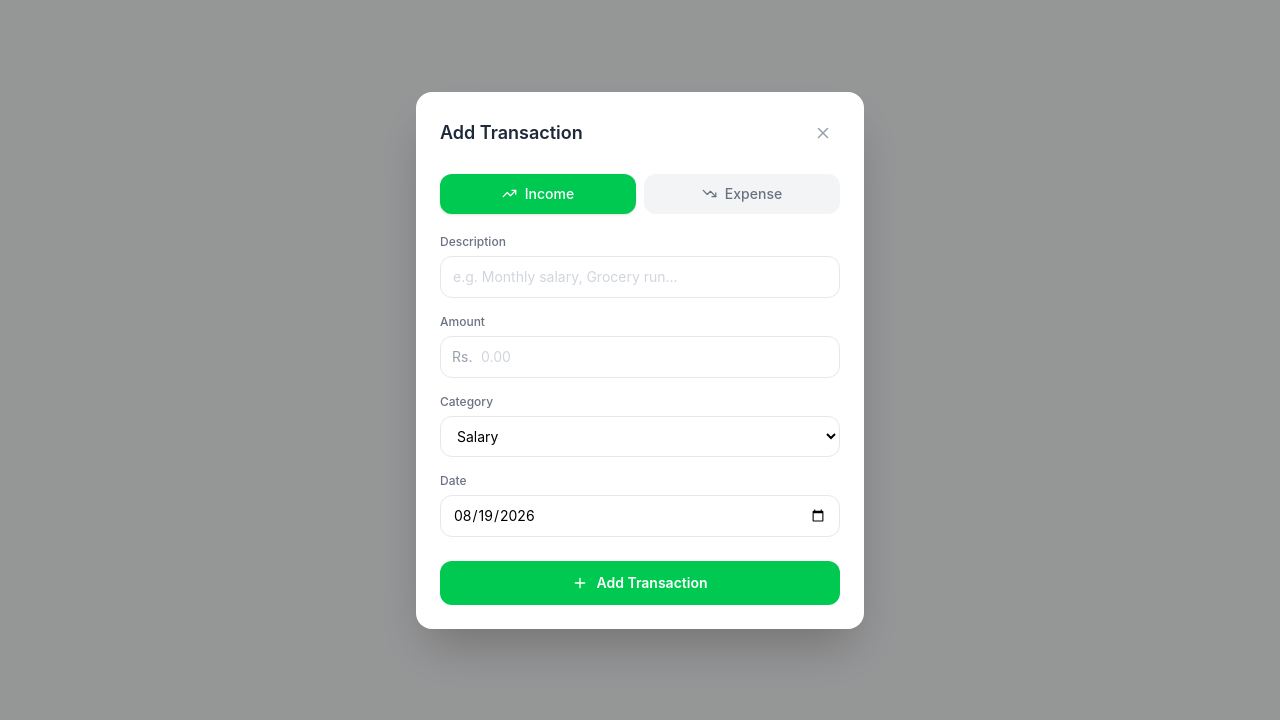
Scenario: TransactionForm date validation (D-09) › rejects a date far in the future instead of accepting it
Type "Time travel" into the field labelled "Description" at (640, 276), box x1=440 y1=256 x2=840 y2=298
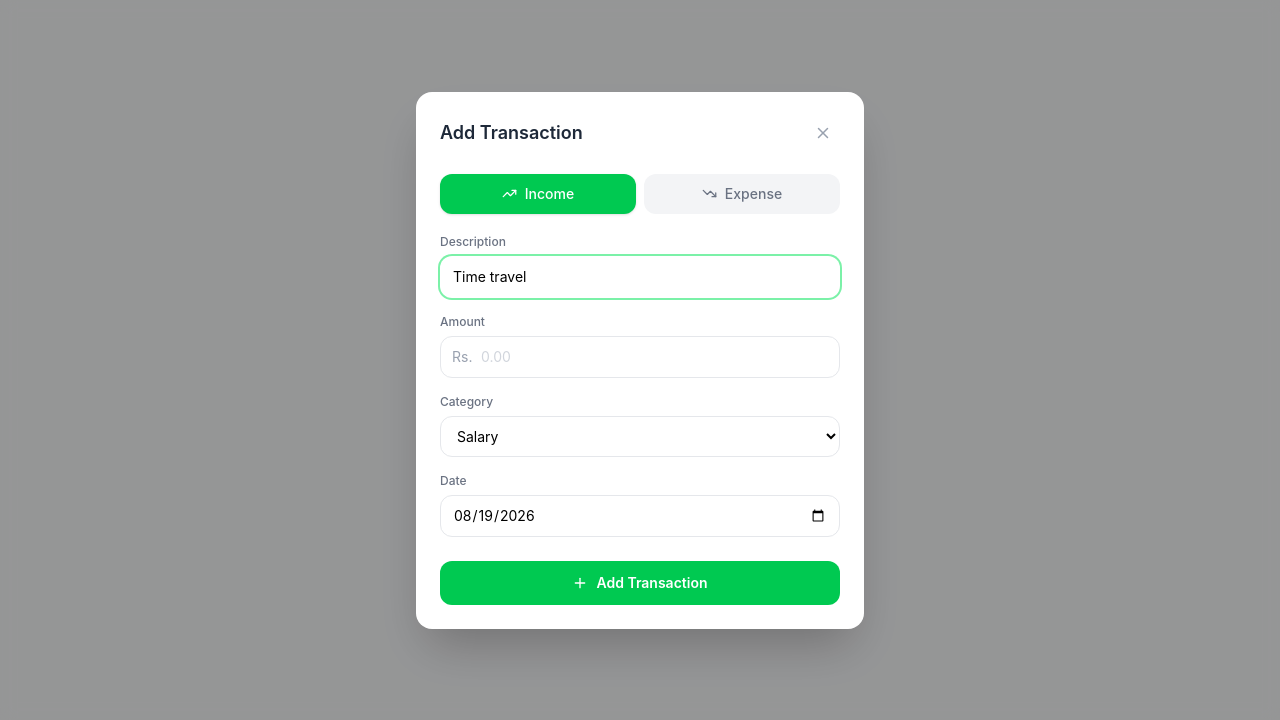
Type "500" into the number field labelled "Amount" at (640, 356), box x1=440 y1=336 x2=840 y2=378
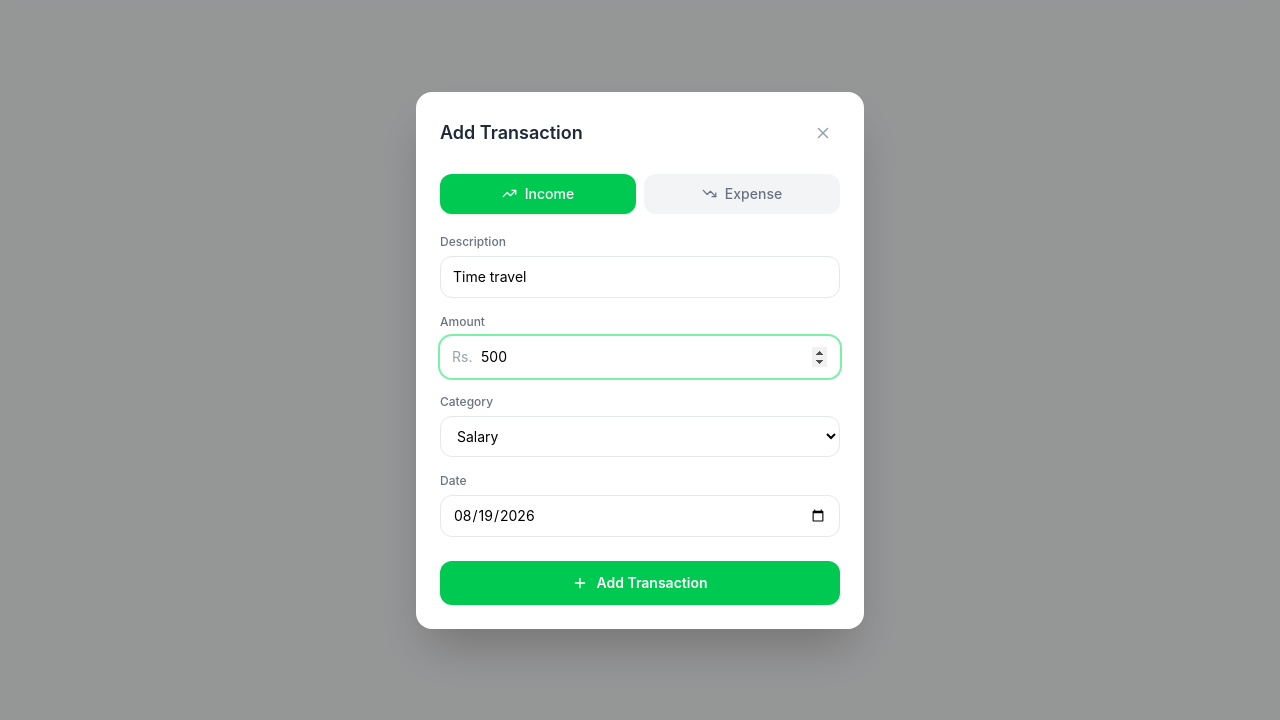
Type "3000-01-01" into the date field labelled "Date" at (640, 516), box x1=440 y1=494 x2=840 y2=536
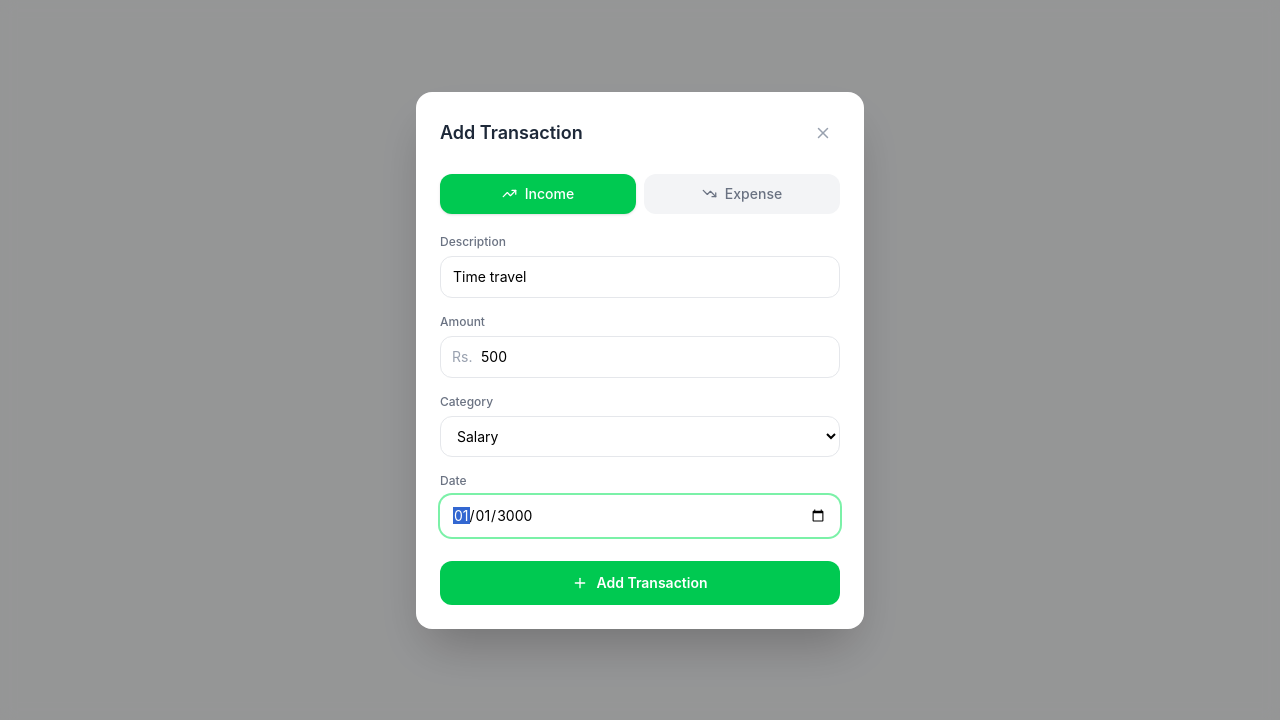
Click the button "Add Transaction" at (640, 582), box x1=440 y1=560 x2=840 y2=604
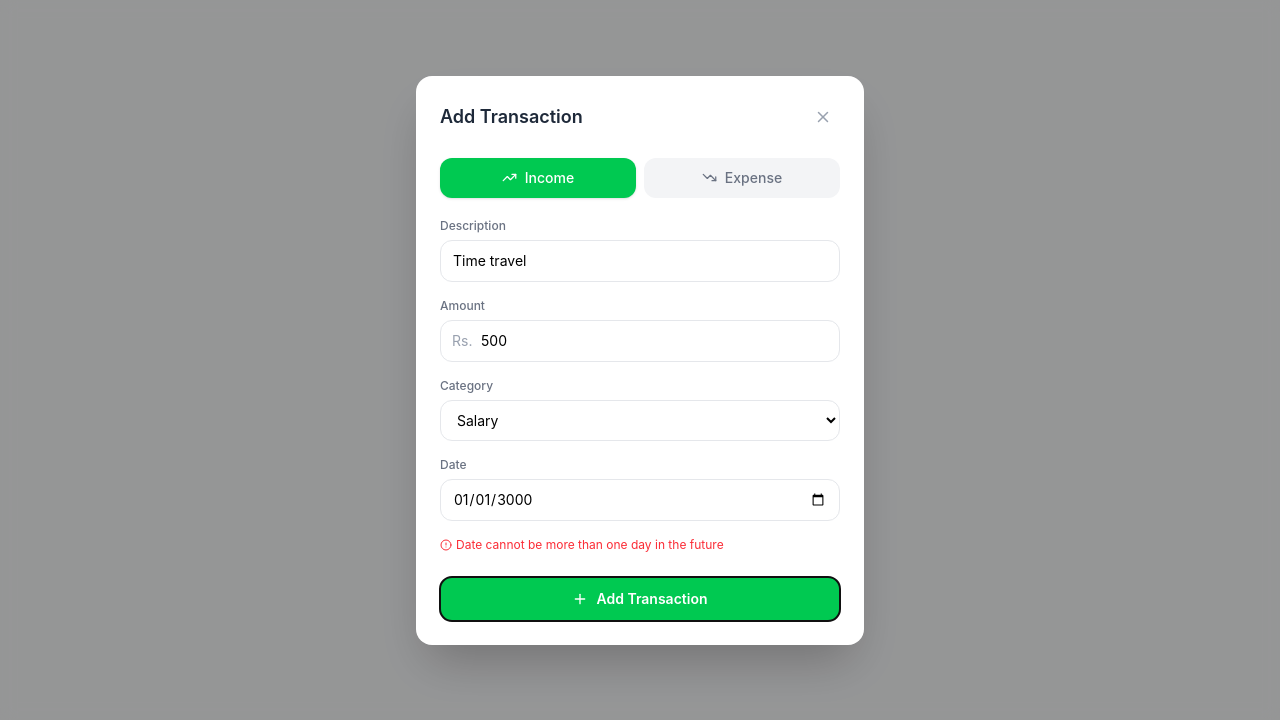
expect the text "Date cannot be more than one day in the future" is shown: met, box x1=440 y1=536 x2=724 y2=552
